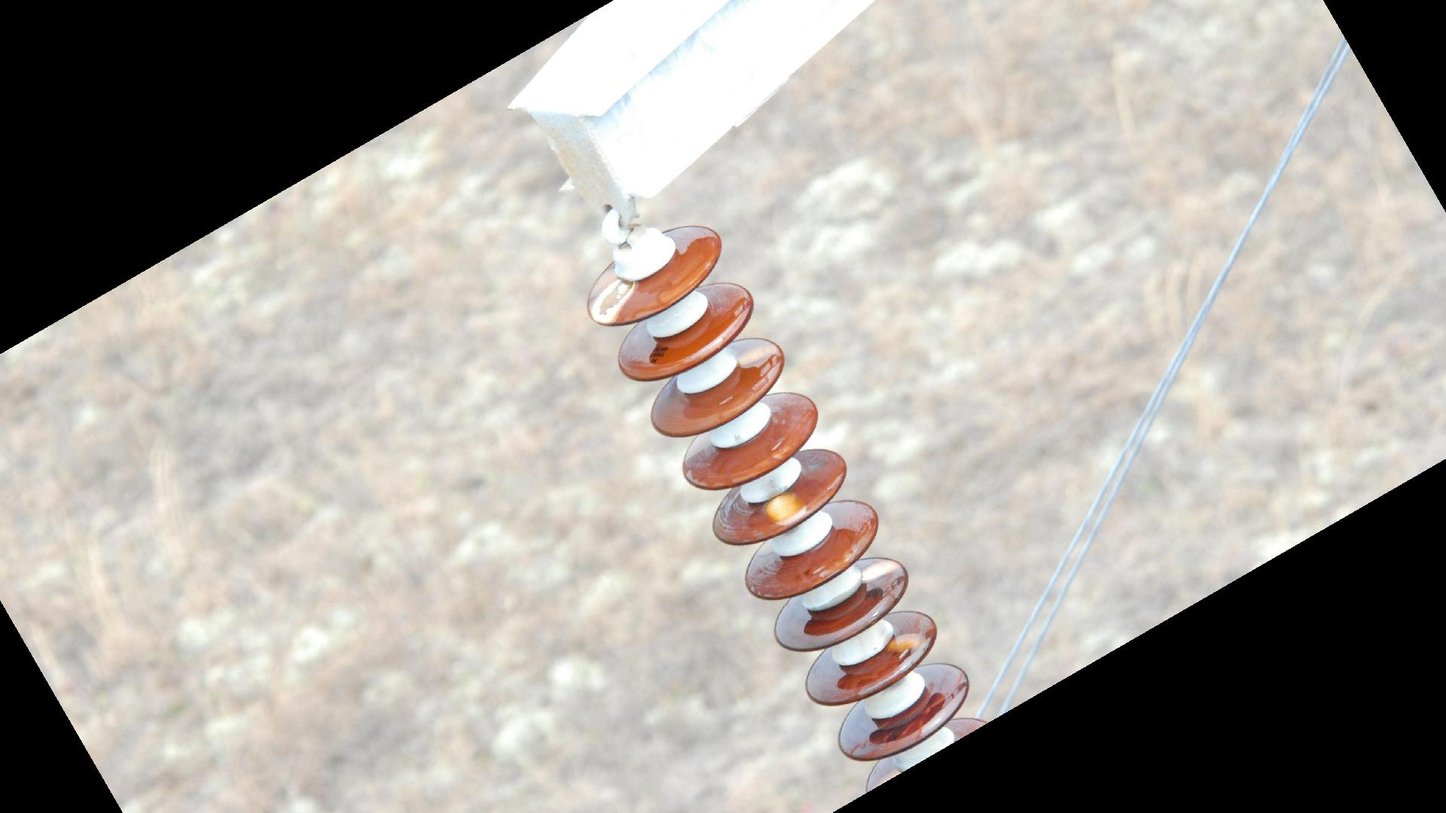insulator: (583, 220, 1000, 798)
insulator_flashover: (587, 276, 637, 327), (761, 489, 809, 529), (885, 629, 931, 656), (735, 341, 780, 368), (858, 556, 899, 585)
